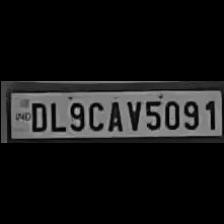0: (162, 98, 180, 130)
1: (201, 98, 219, 130)
5: (141, 96, 161, 130)
9: (64, 99, 84, 131), (179, 98, 199, 130)
A: (104, 98, 124, 132)
C: (85, 99, 105, 131)
D: (25, 100, 47, 132)
L: (46, 99, 62, 131)
V: (123, 97, 141, 131)
